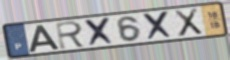6: (115, 15, 142, 43)
A: (28, 24, 61, 53)
R: (55, 20, 88, 51)
X: (83, 16, 118, 48), (172, 6, 205, 38), (142, 10, 175, 42)
